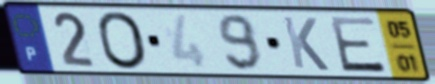2: (53, 10, 98, 70)
4: (168, 12, 210, 72)
9: (216, 12, 267, 73)
E: (326, 15, 390, 75)
K: (279, 14, 332, 73)
O: (94, 10, 152, 72)
